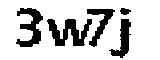3: (9, 4, 44, 50)
7: (87, 4, 116, 49)
j: (114, 2, 135, 60)
w: (44, 16, 92, 49)
